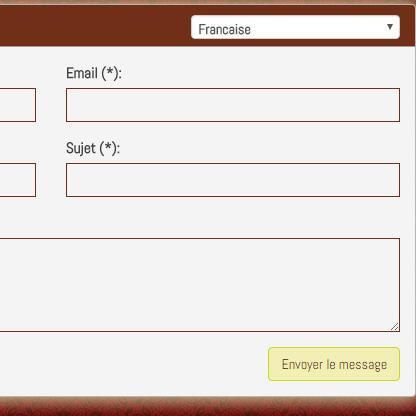button: (267, 346, 401, 381)
field: (63, 161, 402, 199), (63, 86, 402, 123), (190, 15, 401, 41)
field_with_label: (61, 142, 404, 201), (63, 66, 404, 125)
